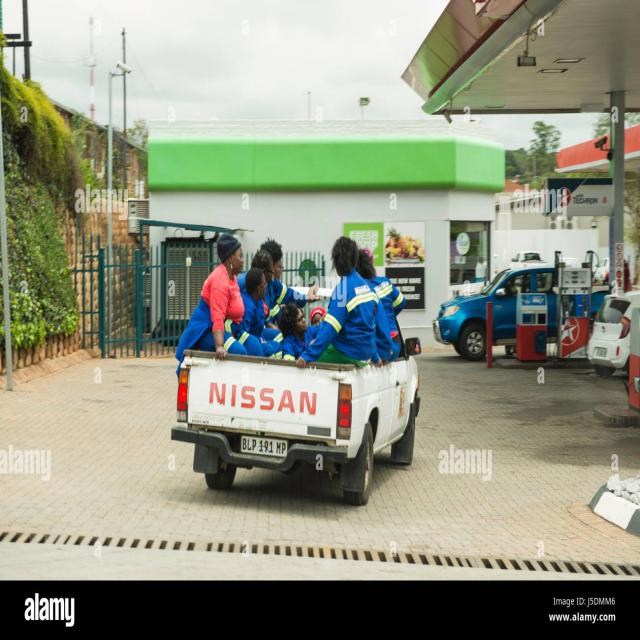Passenger Car: (587, 290, 639, 381)
Pickup Trucks: (172, 358, 424, 508), (432, 272, 516, 359)
